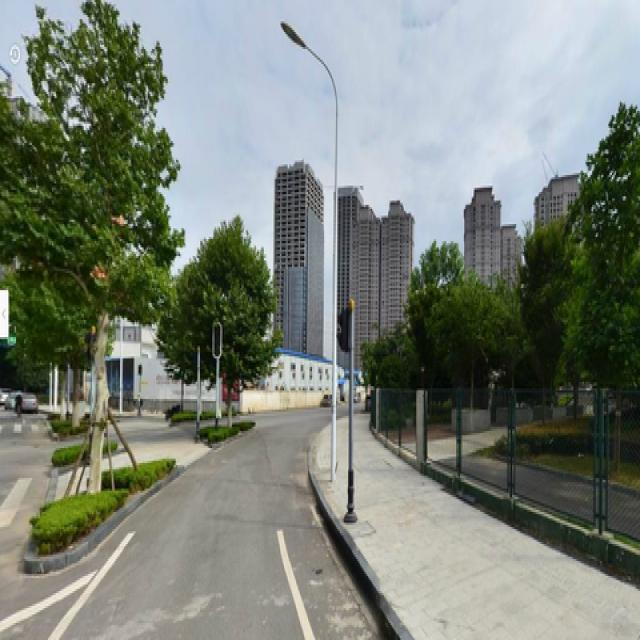meta: (16, 23, 163, 470)
